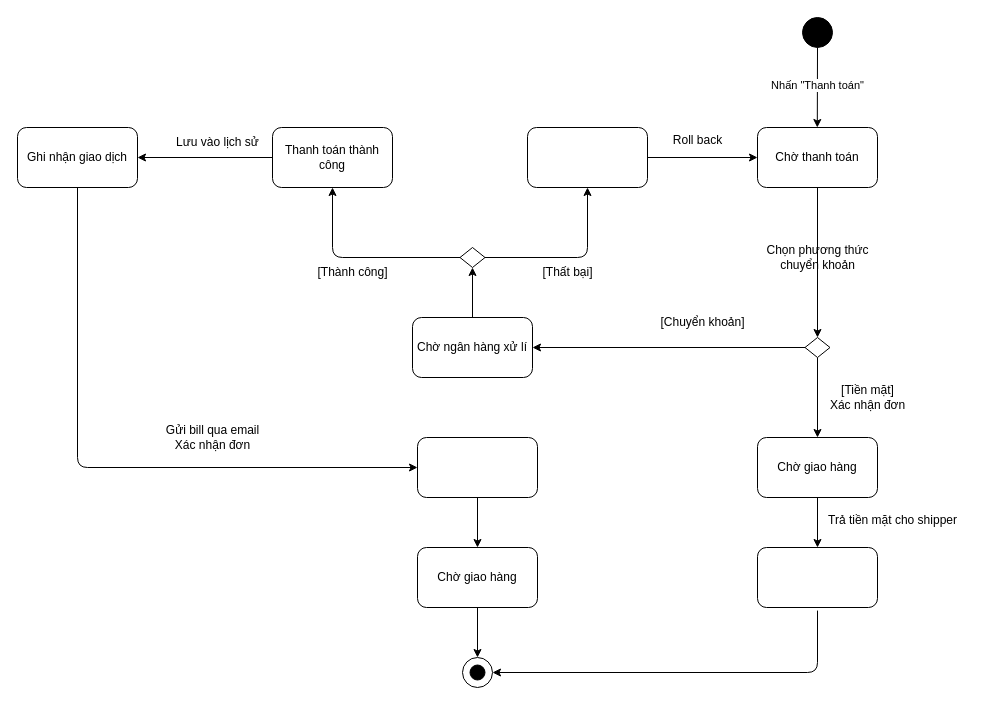
This 985x705 diagram has some shape labels left out. Here are the shapes that lost their labels. From the top down, the centre of each, then its label:
At point (587, 157): "Thanh toán thất bại".
At point (477, 467): "Đã xác nhận".
At point (817, 577): "Đã thanh toán".
